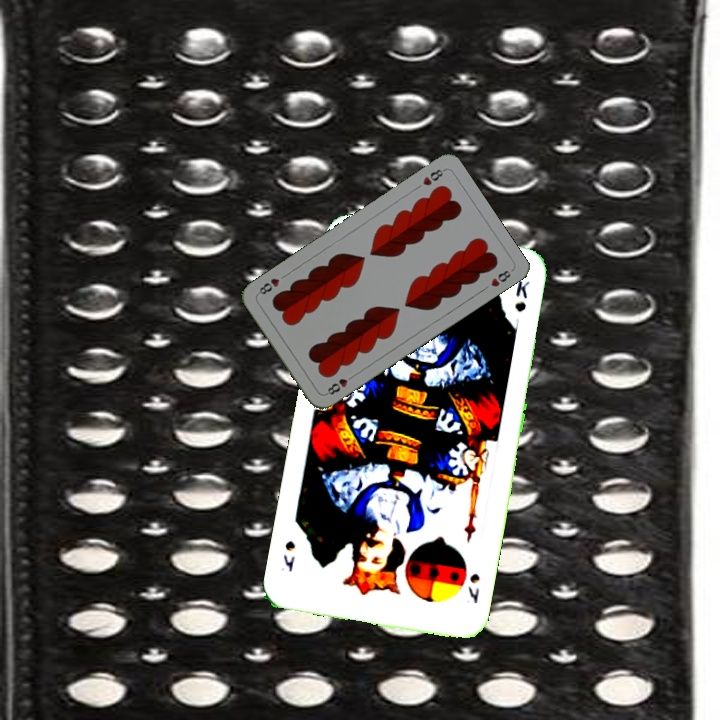H8: (321, 370, 357, 398), (418, 165, 447, 188)
SK: (464, 569, 482, 607)
